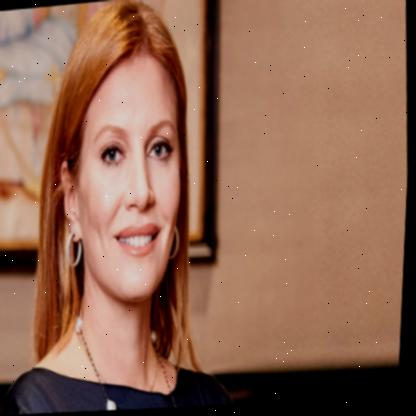person: (42, 0, 198, 311)
